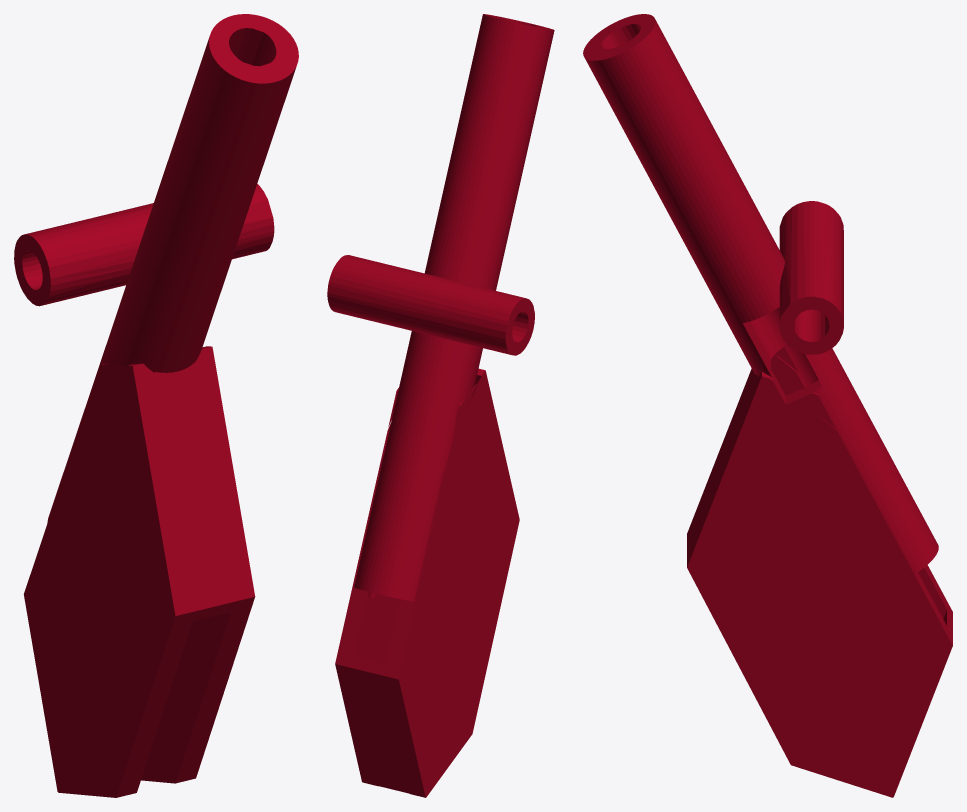
File: tinker.obj
The picture shows the model from 3 angles, left to right: view 1: azimuth 30°, elevation 25°; view 2: azimuth 150°, elevation 25°; view 3: azimuth 270°, elevation 25°; orthographic projection. The views are drawn at different scales.
Visible parts, largest first — view 1: obj_0; view 2: obj_0; view 3: obj_0.
Part boxes in pixels (<box>): obj_0: <box>14,14,298,797</box>; obj_0: <box>327,14,554,797</box>; obj_0: <box>583,14,952,797</box>.
Size of the model in its own units: 7 by 25.95 by 11.45.
